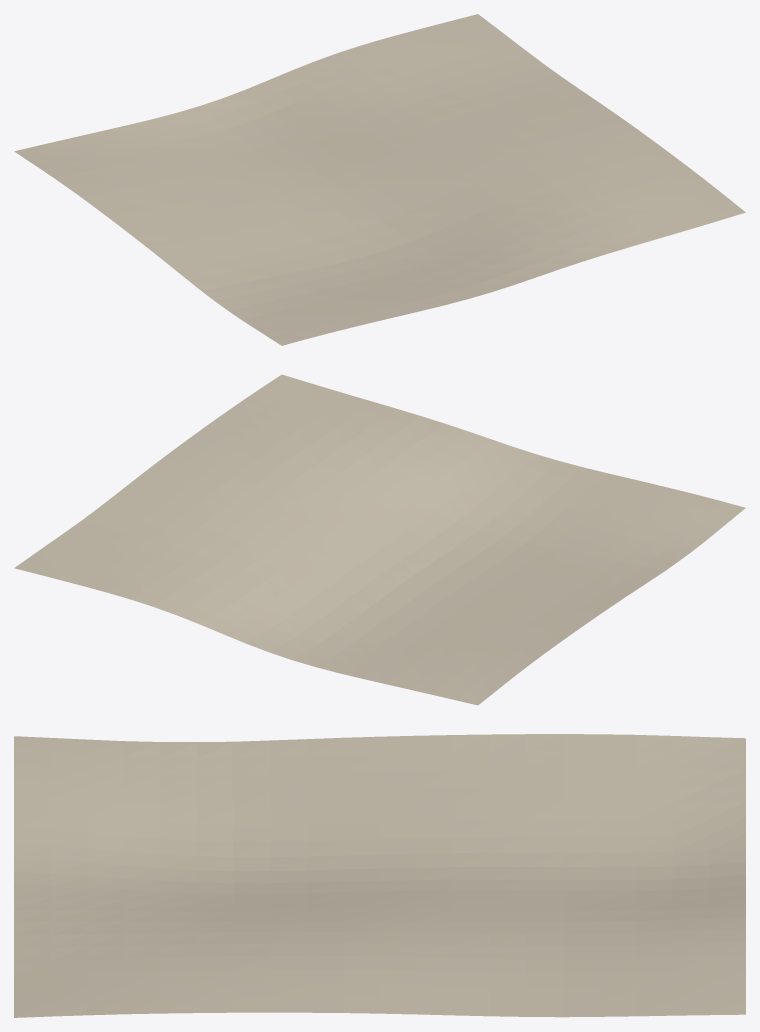
File: bolak_-36_-7.glb
The picture shows the model from 3 angles, top to bottom: view 1: azimuth 30°, elevation 25°; view 2: azimuth 150°, elevation 25°; view 3: azimuth 270°, elevation 25°; orthographic projection. The views are drawn at different scales.
Parts seen in each view (by area): view 1: Yer_Tuproq-col; view 2: Yer_Tuproq-col; view 3: Yer_Tuproq-col.
Part boxes in pixels (box(x1,y1,x2,y2)): Yer_Tuproq-col: box(14, 14, 745, 345); Yer_Tuproq-col: box(14, 374, 745, 705); Yer_Tuproq-col: box(14, 734, 745, 1017).
Bounding box in the file's own units: 400 × 27.68 × 400.
